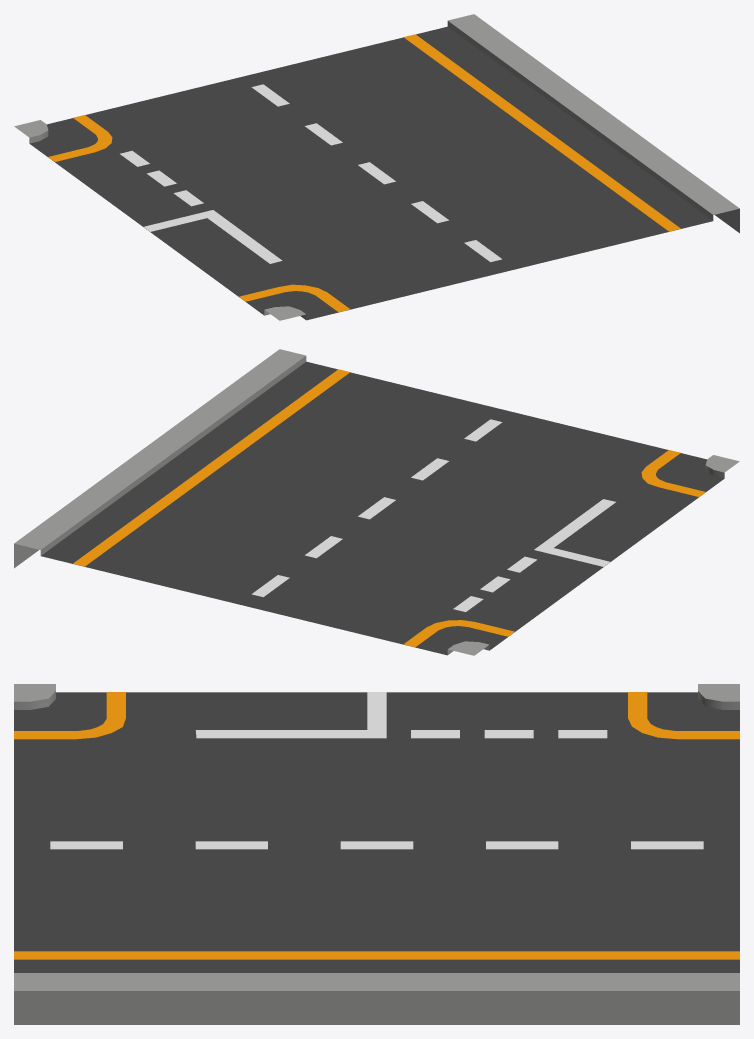
Rendered from Road_A_6.fbx.
3 renders of one model, top to bottom at view 1: azimuth 30°, elevation 25°; view 2: azimuth 150°, elevation 25°; view 3: azimuth 270°, elevation 25°, orthographic. The views are drawn at different scales.
Parts seen in each view (by area): view 1: Road_A_6; view 2: Road_A_6; view 3: Road_A_6.
Boxes of the visible parts, <box> form: Road_A_6: <box>14,14,739,320</box>; Road_A_6: <box>14,349,739,655</box>; Road_A_6: <box>14,684,739,1024</box>.
Size of the model in its own units: 800 by 41.48 by 800.
